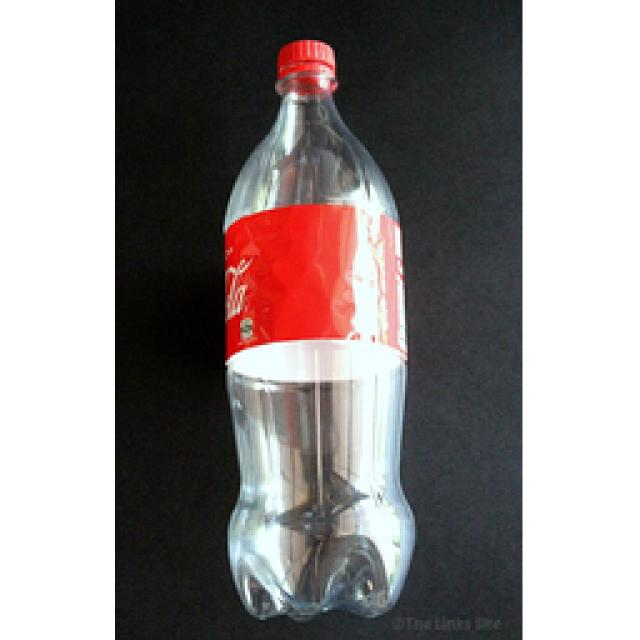plastic_soda_bottles: (218, 80, 414, 621)
